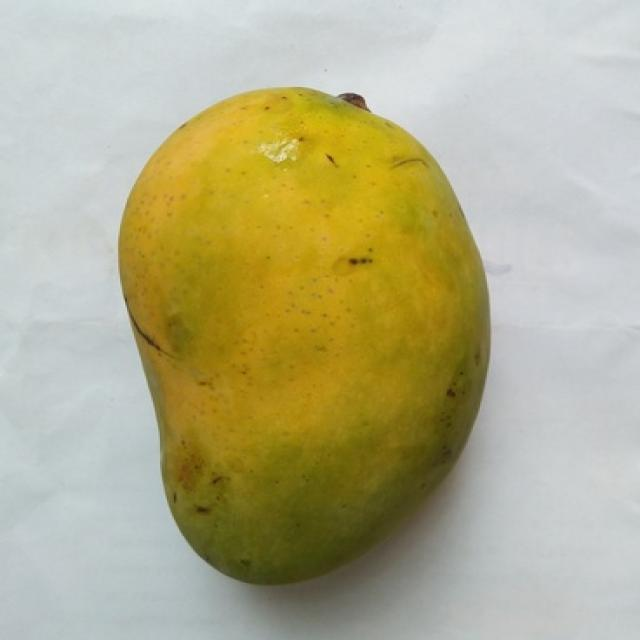Mango: (122, 88, 489, 583)
